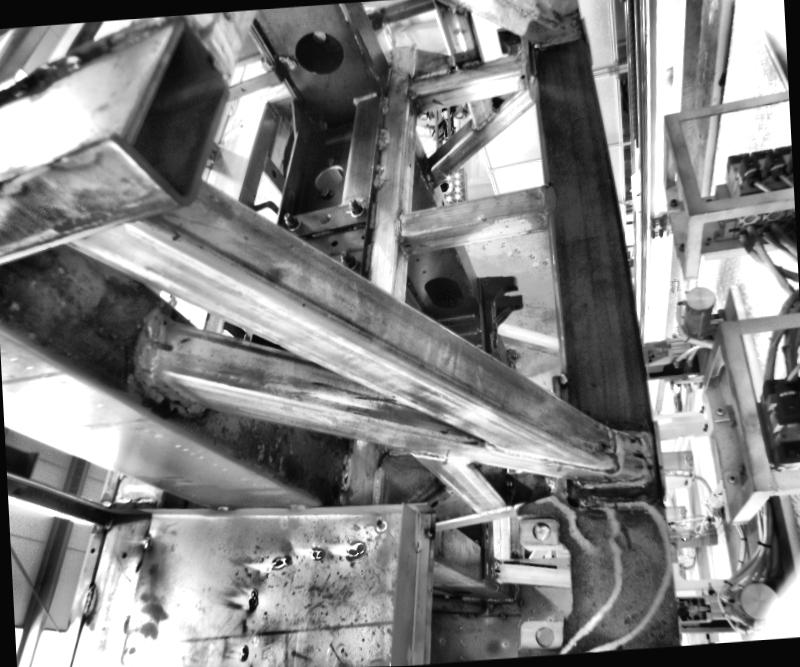bolt: (343, 196, 362, 219), (280, 209, 300, 230), (336, 249, 356, 270)
bracket: (472, 269, 526, 359)
hole: (294, 29, 342, 77), (422, 273, 466, 312), (310, 164, 342, 192), (532, 626, 554, 648), (530, 523, 552, 541), (150, 338, 172, 355), (314, 212, 331, 224), (632, 452, 642, 460), (329, 238, 337, 246), (119, 552, 127, 560), (88, 546, 94, 555), (402, 242, 411, 248), (518, 73, 524, 80), (407, 162, 410, 168), (420, 270, 424, 274), (416, 260, 419, 264), (440, 200, 442, 205), (360, 235, 362, 239)
welding: (141, 316, 172, 384), (572, 475, 658, 493), (642, 432, 656, 486), (78, 582, 98, 618), (606, 424, 619, 474), (538, 185, 554, 212), (370, 163, 384, 186), (210, 504, 232, 518), (393, 213, 402, 242), (374, 127, 386, 148), (284, 503, 308, 512), (380, 96, 388, 114), (142, 537, 152, 548)
